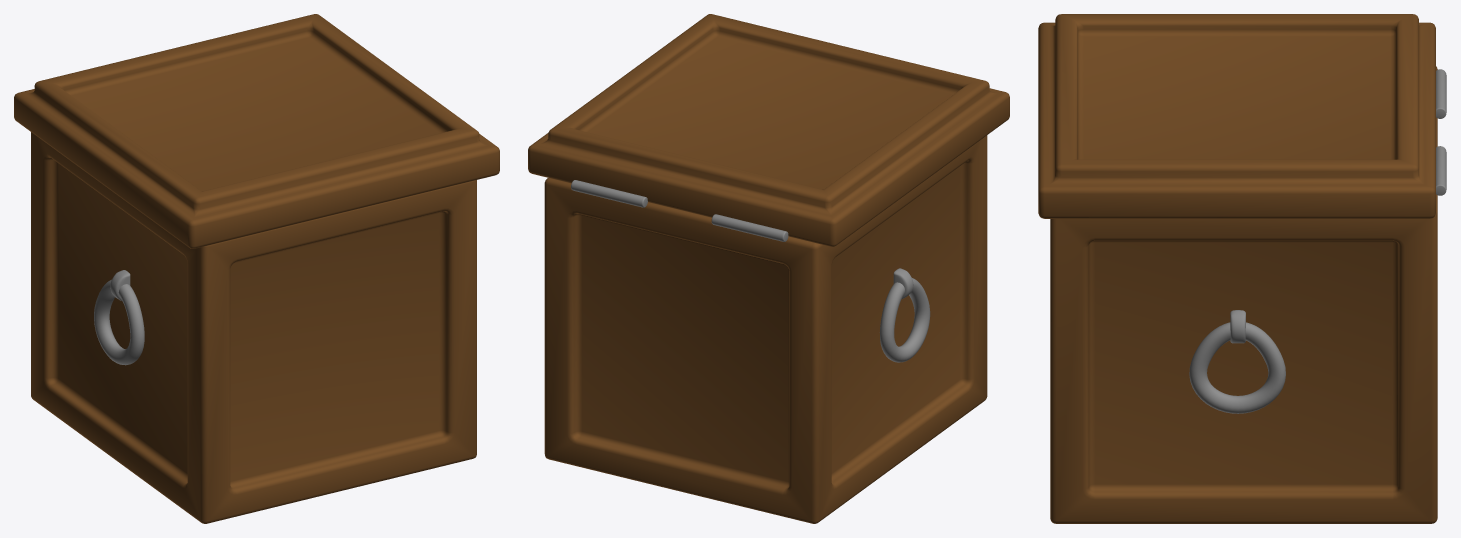
Rendered from SM_Chest_2_SSize.fbx.
The picture shows the model from 3 angles, left to right: view 1: azimuth 30°, elevation 25°; view 2: azimuth 150°, elevation 25°; view 3: azimuth 270°, elevation 25°; orthographic projection. The views are drawn at different scales.
Visible parts, largest first — view 1: Chest_01.002, Metal.005; view 2: Chest_01.002, Metal.005; view 3: Chest_01.002, Metal.005.
Boxes of the visible parts, x1=… form: Chest_01.002: x1=14, y1=14, x2=499, y2=523; Metal.005: x1=94, y1=270, x2=144, y2=365; Chest_01.002: x1=528, y1=14, x2=1009, y2=523; Metal.005: x1=571, y1=180, x2=930, y2=362; Chest_01.002: x1=1038, y1=14, x2=1437, y2=523; Metal.005: x1=1189, y1=69, x2=1446, y2=413.
Size of the model in its own units: 50 by 50 by 51.12.
